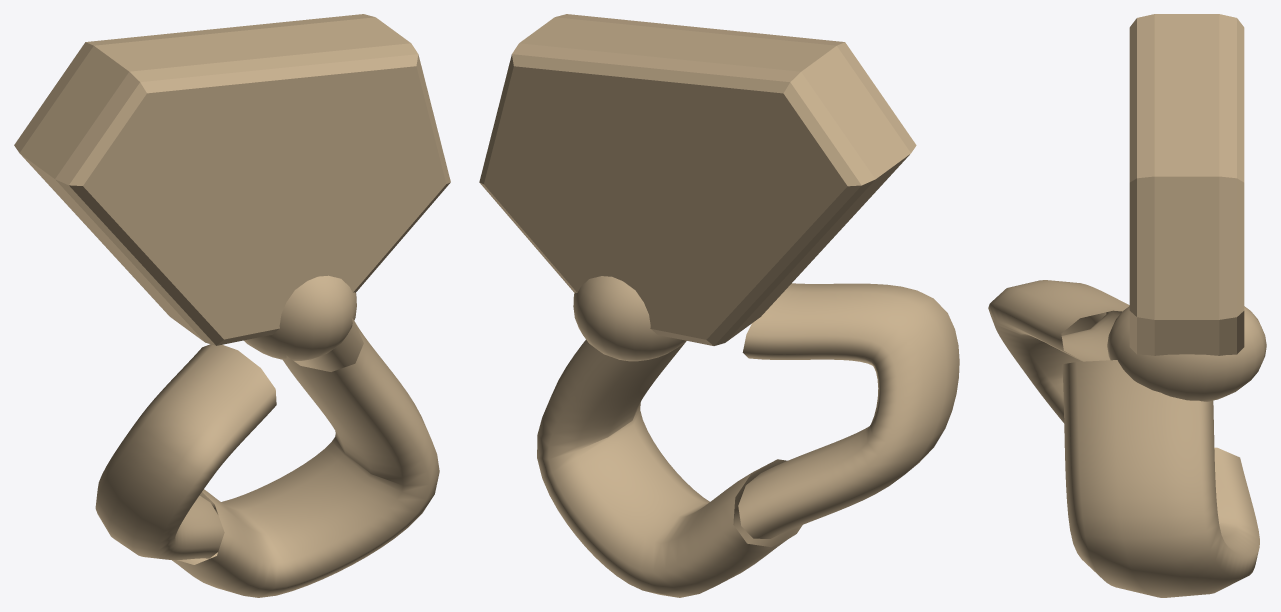
Rendered from left_coxal.glb.
3 renders of one model, left to right at view 1: azimuth 30°, elevation 25°; view 2: azimuth 150°, elevation 25°; view 3: azimuth 270°, elevation 25°, orthographic. The views are drawn at different scales.
Visible parts, largest first — view 1: left_coxal:ilium, left_coxal:ischium, left_coxal:pubis, left_coxal:acetabular-rim; view 2: left_coxal:ilium, left_coxal:ischium, left_coxal:pubis, left_coxal:acetabular-rim; view 3: left_coxal:ilium, left_coxal:ischium, left_coxal:pubis, left_coxal:acetabular-rim.
Boxes of the visible parts, <box> form: left_coxal:ilium: <box>14,14,450,345</box>; left_coxal:ischium: <box>172,318,439,597</box>; left_coxal:pubis: <box>95,344,276,560</box>; left_coxal:acetabular-rim: <box>244,275,356,360</box>; left_coxal:ilium: <box>479,14,916,345</box>; left_coxal:ischium: <box>537,340,802,597</box>; left_coxal:pubis: <box>738,283,959,538</box>; left_coxal:acetabular-rim: <box>573,276,686,361</box>; left_coxal:ilium: <box>1129,14,1244,355</box>; left_coxal:ischium: <box>1062,360,1259,597</box>; left_coxal:pubis: <box>988,280,1129,423</box>; left_coxal:acetabular-rim: <box>1107,306,1266,401</box>.
Bounding box in the file's own units: 0.4154 × 0.5695 × 0.2814.
